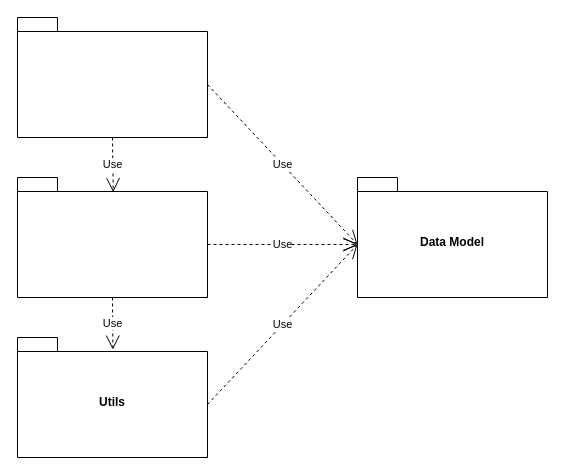
Image size: 565x475. Some labels were removed from this diagram. The centre of each missing label's shape, as x and y in pixels:
Business Logic: (x=112, y=237)
Graphical User Interface (com.example.queuemanager): (x=112, y=77)
